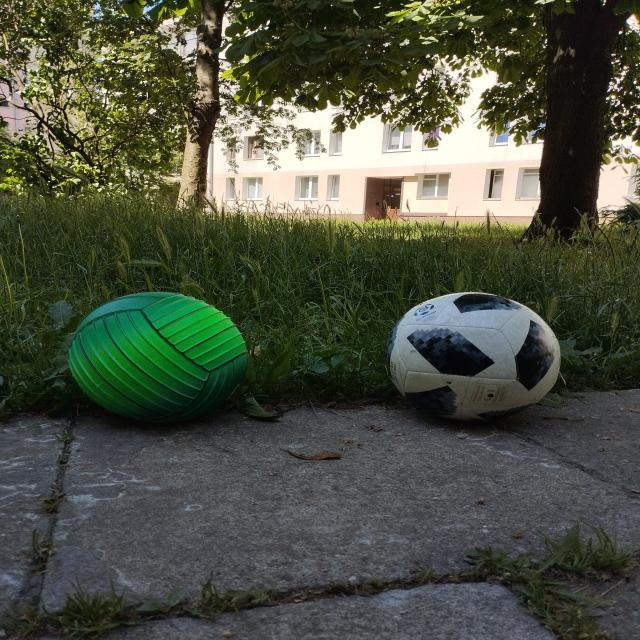nozna: (385, 292, 561, 422)
zielona: (68, 291, 249, 423)
